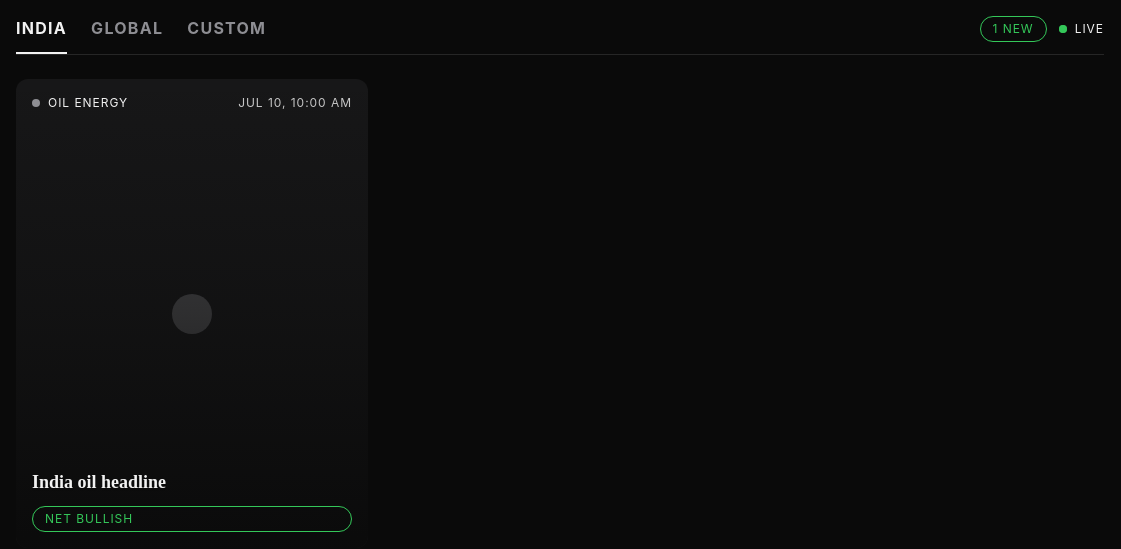
Test: Feed › queues a live-pushed alert as "N new" instead of splicing it in immediately
Click the button "1 new" at (1013, 29), box [980,16,1047,42]
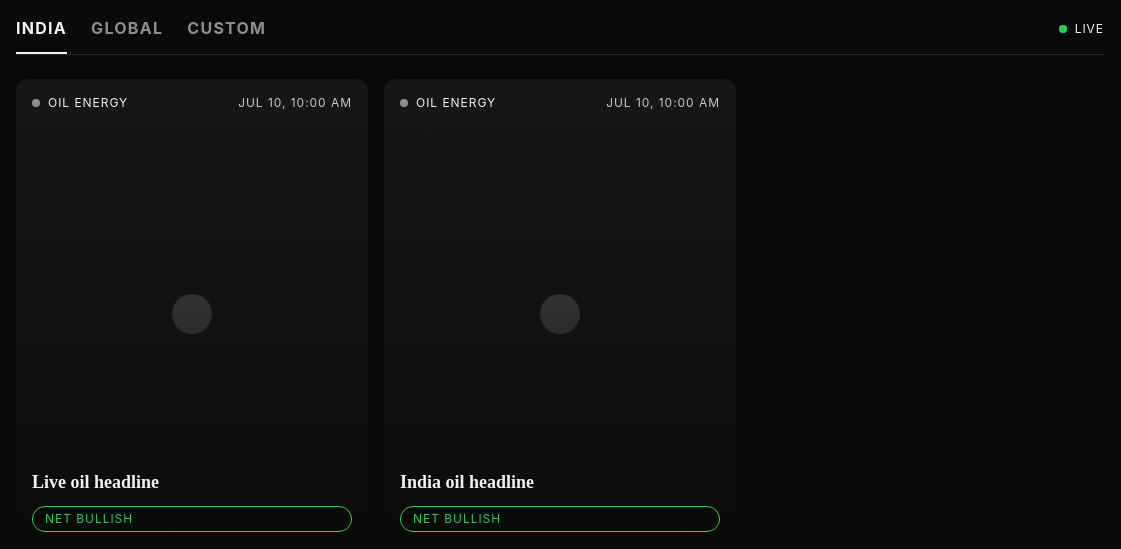
expect the button "1 new" is gone: met
